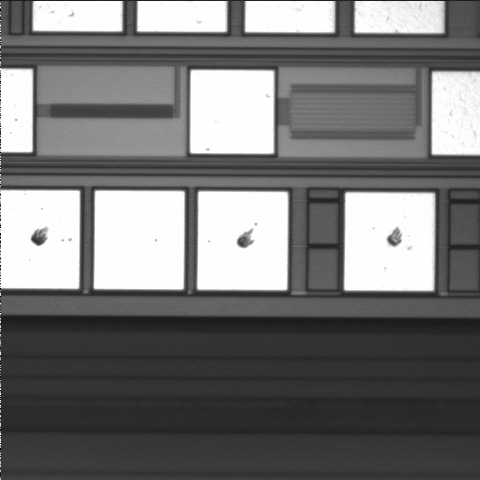pad: (197, 191, 288, 290), (344, 192, 435, 291), (94, 191, 184, 289), (190, 70, 274, 154)
